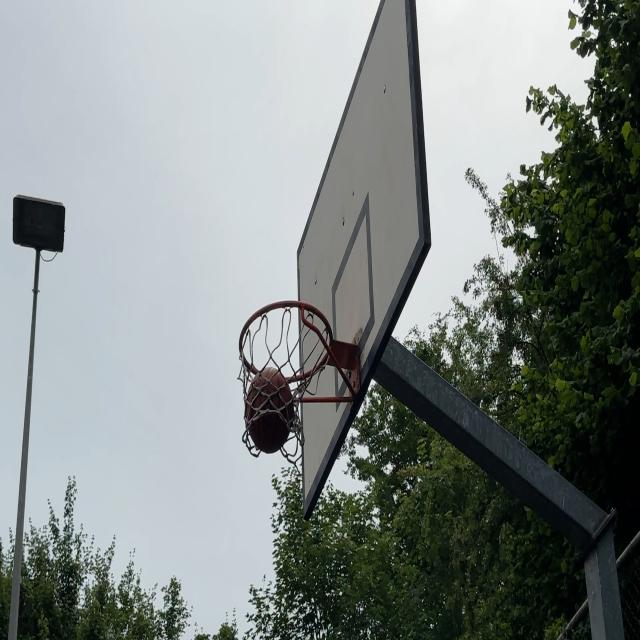Goal: (245, 366, 292, 454)
